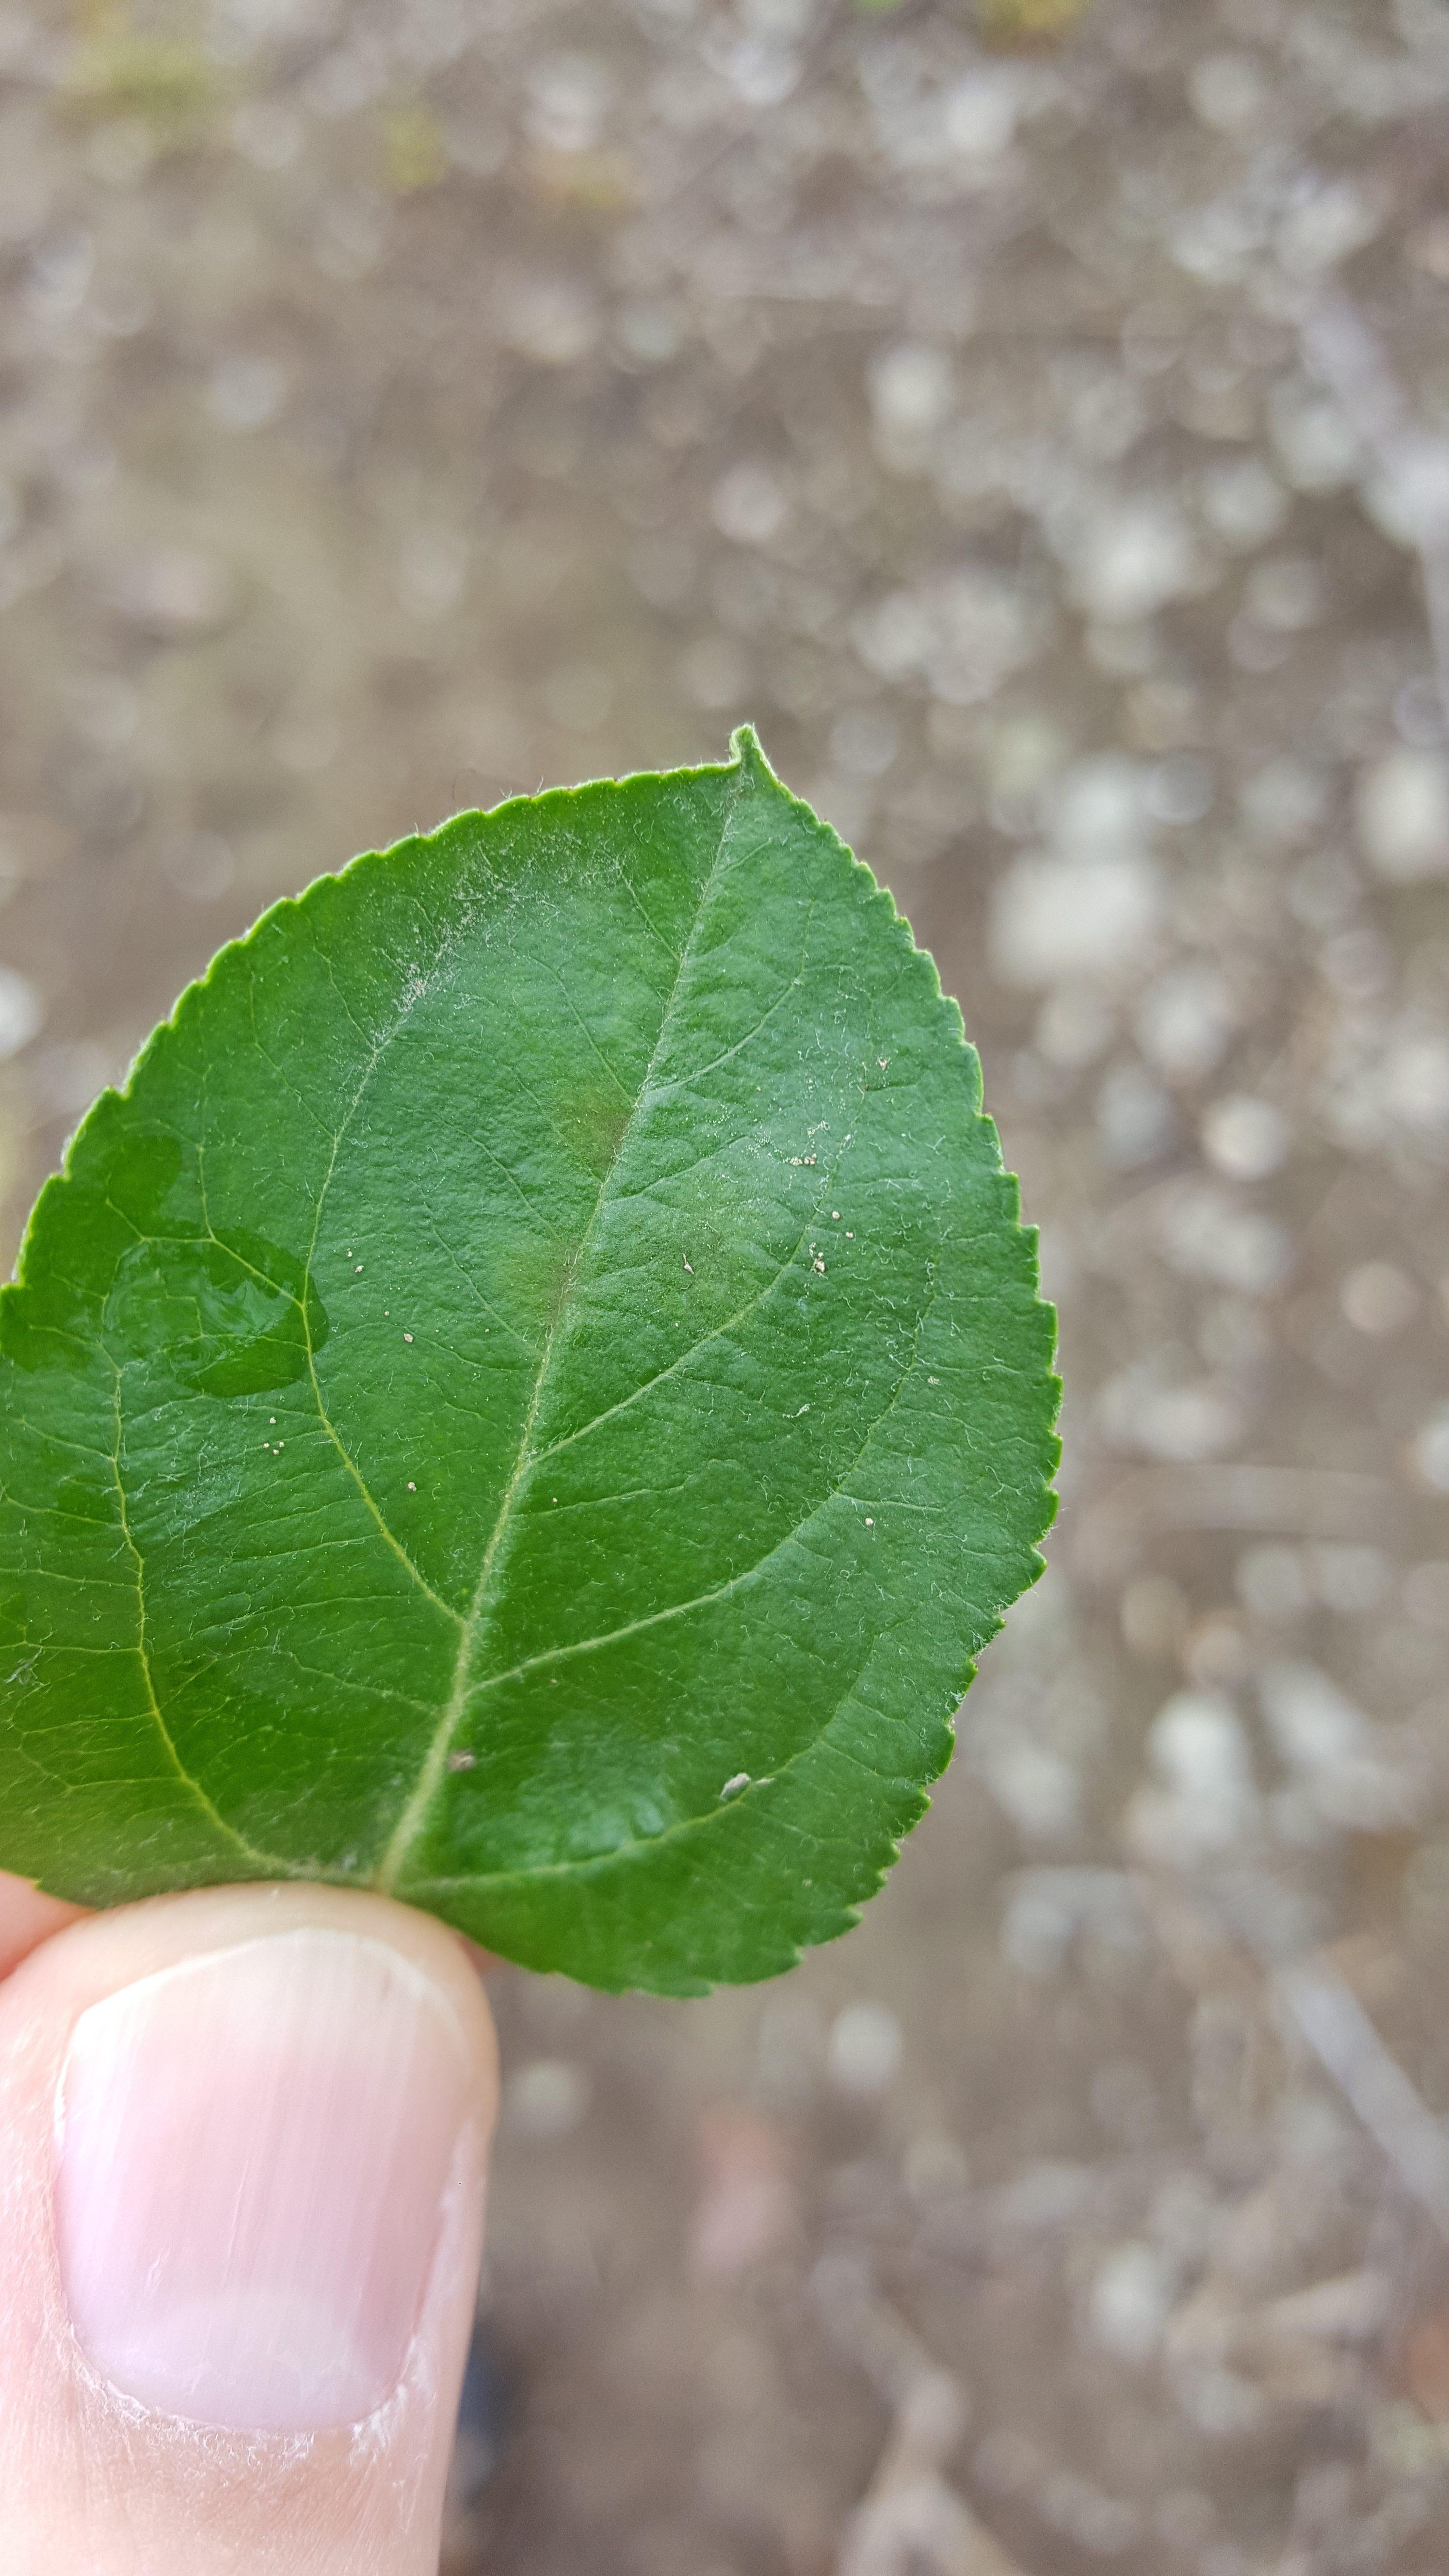Apple leaf: (7, 690, 1077, 2010)
